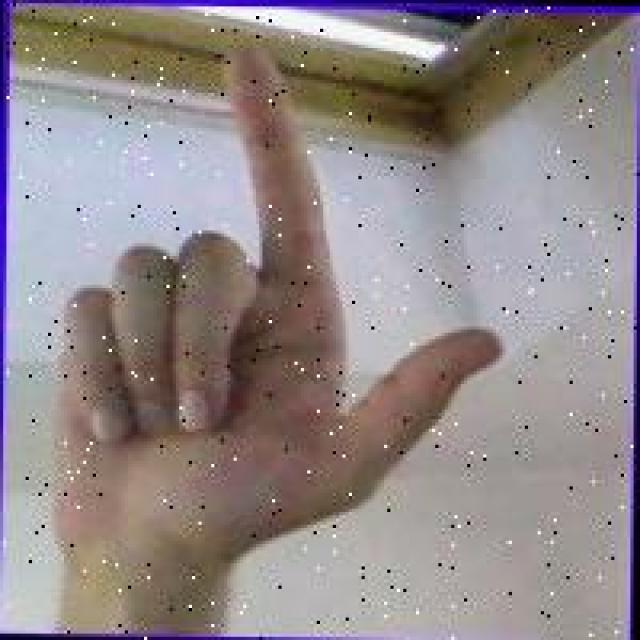L: (42, 26, 515, 592)
